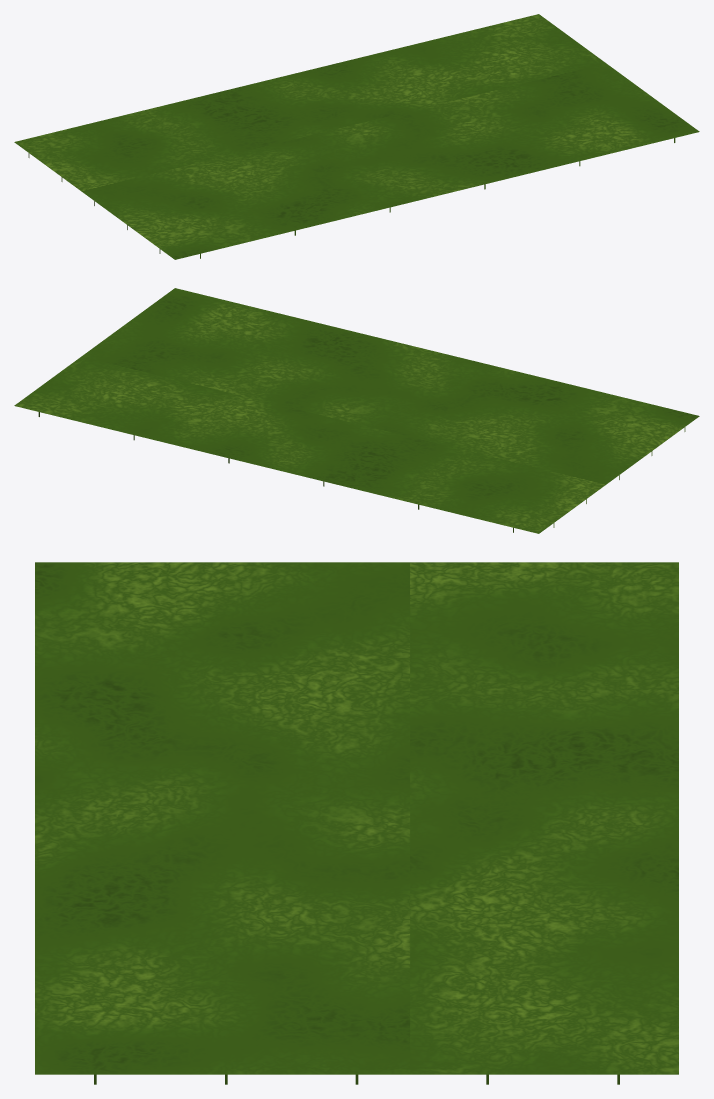
The model's file is buildig.002_moss_0.001_lev3.glb.
3 views of the same model, one above another, from view 1: azimuth 30°, elevation 25°; view 2: azimuth 150°, elevation 25°; view 3: azimuth 270°, elevation 25° (orthographic). The views are drawn at different scales.
Visible parts, largest first — view 1: buildig.002_moss_0.001_lev3; view 2: buildig.002_moss_0.001_lev3; view 3: buildig.002_moss_0.001_lev3.
Part boxes in pixels (x1,y1,x2,y2): buildig.002_moss_0.001_lev3: (14,14,699,259); buildig.002_moss_0.001_lev3: (14,288,699,533); buildig.002_moss_0.001_lev3: (35,562,678,1084).
Bounding box in the file's own units: 5.46 × 0.05 × 2.9.
1 material, 1 textured.
